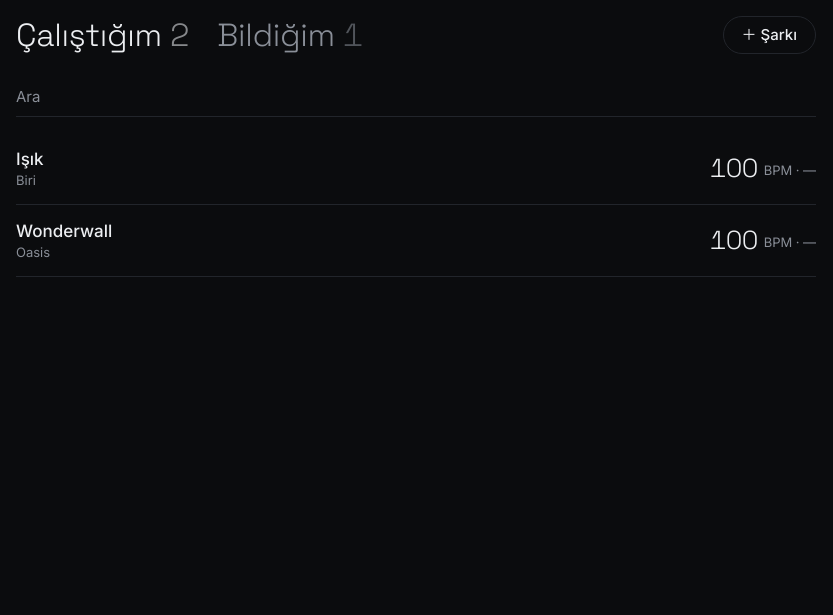
Test: SongList › form validates and does not submit invalid input
Click the button "＋ Şarkı". click: (769, 35)
box: [723, 16, 816, 54]
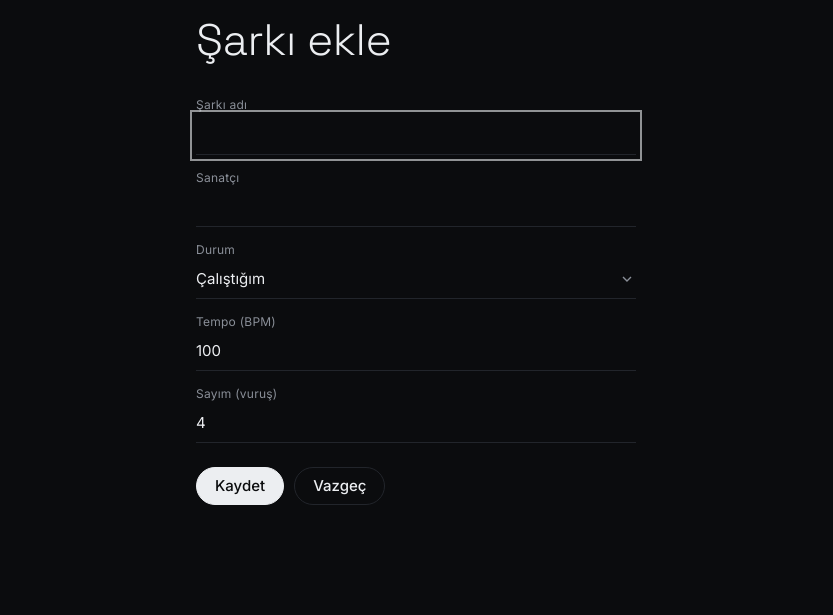
Clear the field labelled "Tempo (BPM)". click: (416, 352)
box: [196, 332, 636, 371]
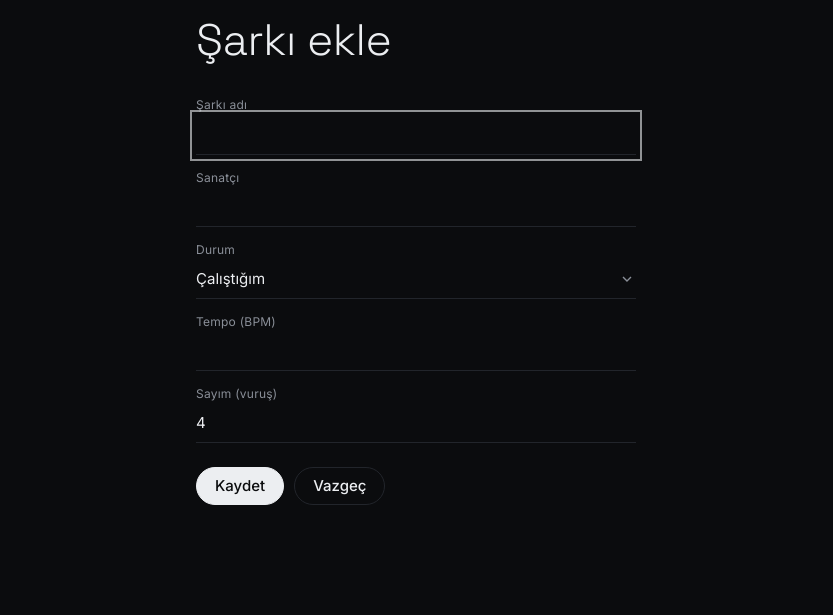
Click the button "Kaydet". click: (240, 486)
box: [196, 467, 284, 505]
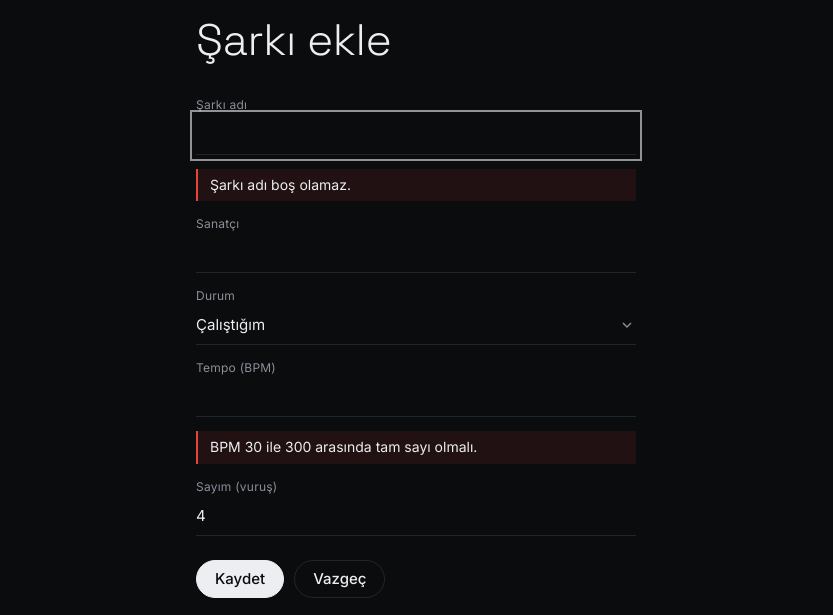
Check: the text "Şarkı adı boş olamaz." is shown, box [196, 168, 636, 201]
Check: the text "BPM 30 ile 300 arasında tam sayı olmalı." is shown, box [196, 431, 636, 464]
